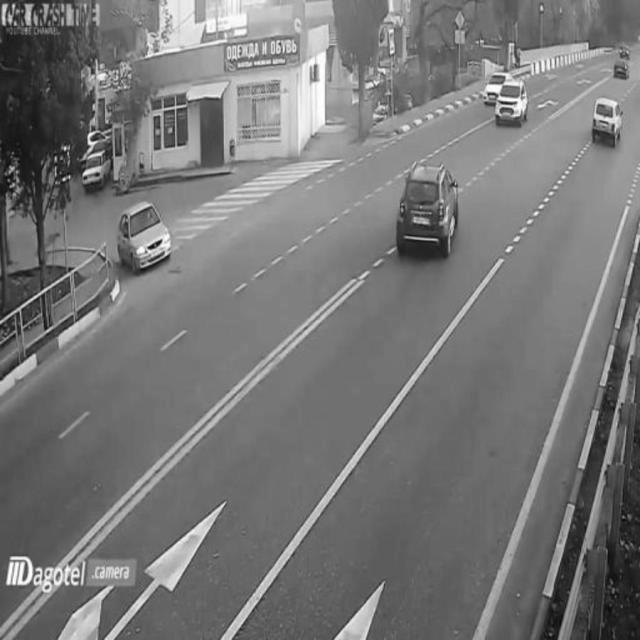vehicle: (399, 157, 461, 257), (111, 196, 173, 278), (591, 91, 625, 152), (492, 75, 528, 130), (78, 141, 114, 195), (612, 52, 632, 79)
